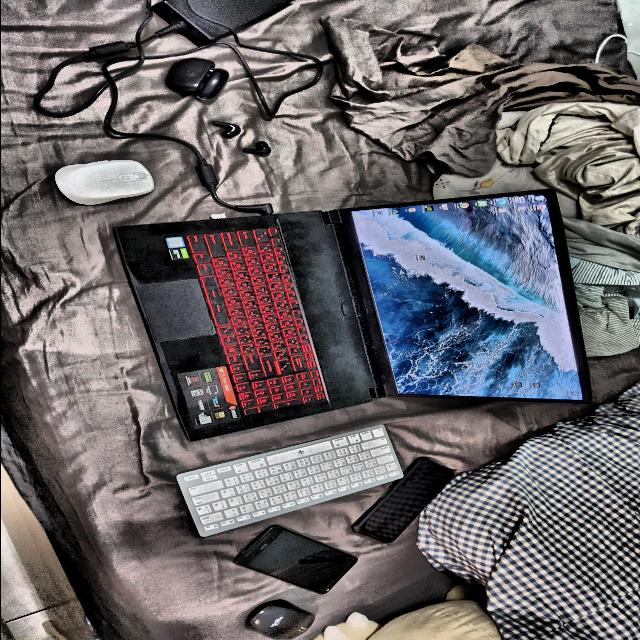Bluetooth headphones: (165, 59, 228, 101), (212, 121, 240, 139), (242, 141, 270, 156)
Keyboard: (175, 425, 402, 537)
Laptop: (113, 189, 590, 441)
MOUSE: (54, 161, 153, 204), (243, 601, 314, 640)
PHONE: (351, 458, 452, 543), (234, 525, 356, 594)
